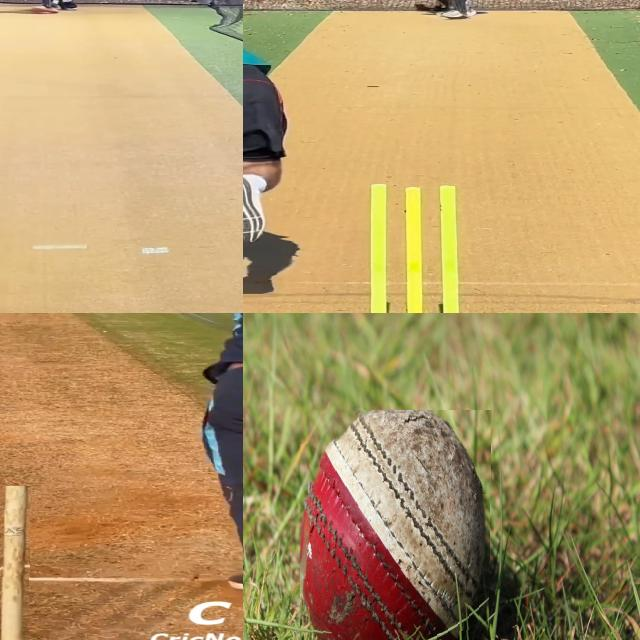Cricket ball: (299, 410, 492, 640)
Stumps: (350, 180, 478, 313), (0, 486, 31, 640)
